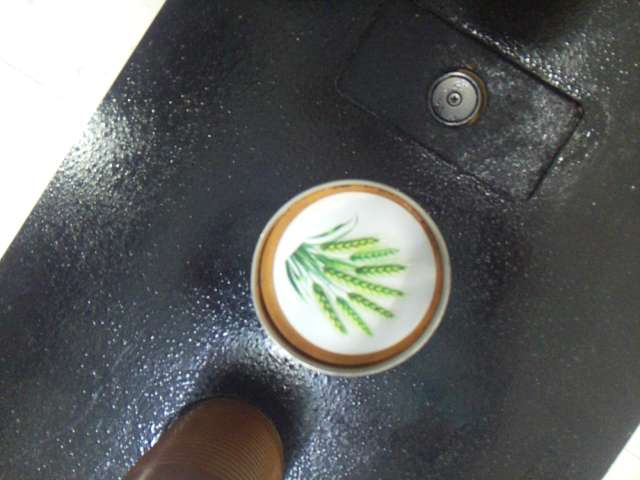wheat_barrel: (275, 193, 435, 353)
